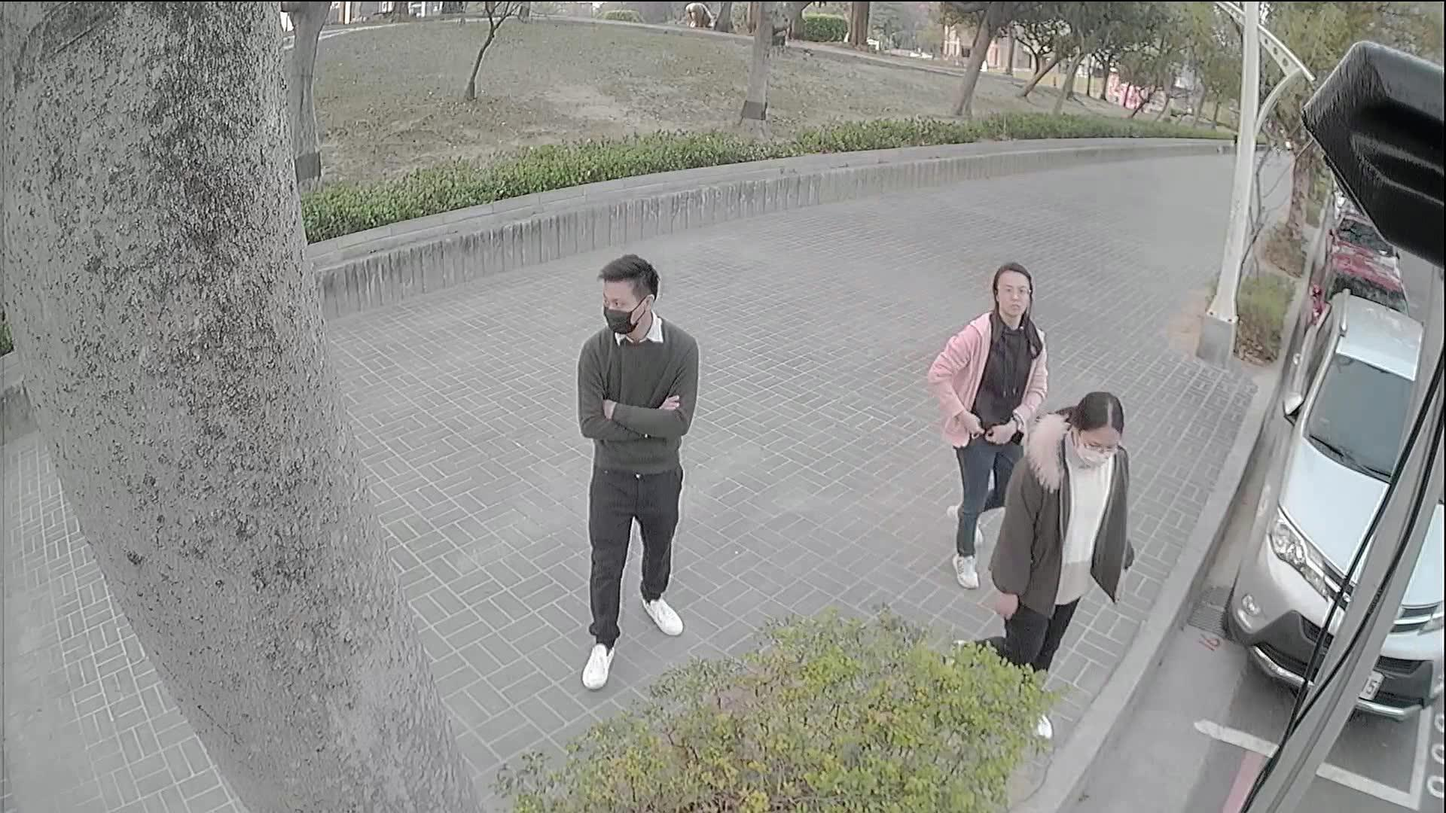person: (575, 254, 694, 685), (975, 385, 1139, 688), (920, 248, 1052, 597)
